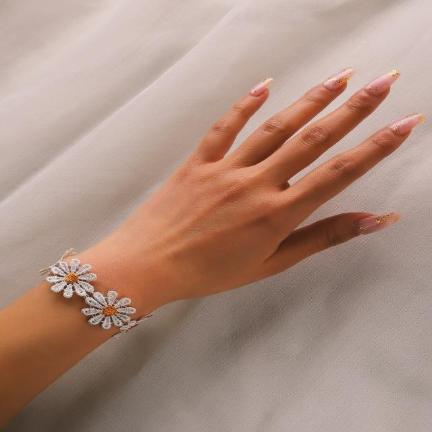Nail: (354, 209, 402, 235), (364, 69, 400, 96), (389, 111, 425, 135), (322, 67, 357, 90), (249, 77, 274, 97)
